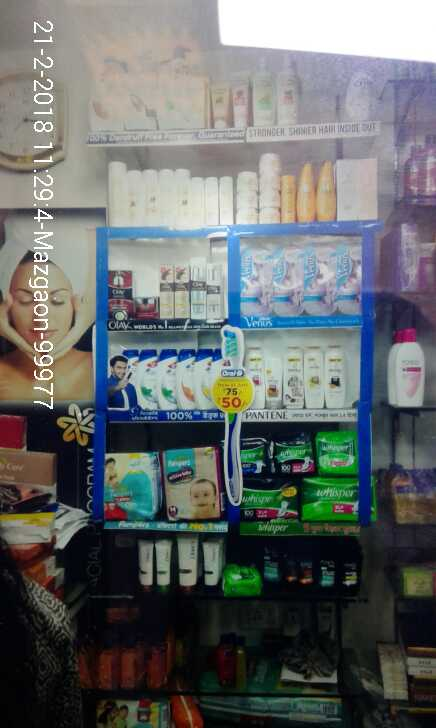venus: (273, 245, 304, 314), (303, 245, 333, 313), (241, 251, 272, 314), (334, 245, 362, 313)
